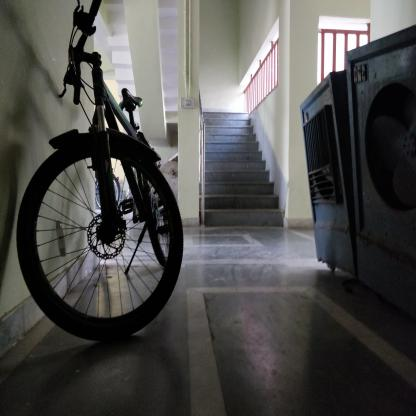stairs: (207, 110, 249, 230)
